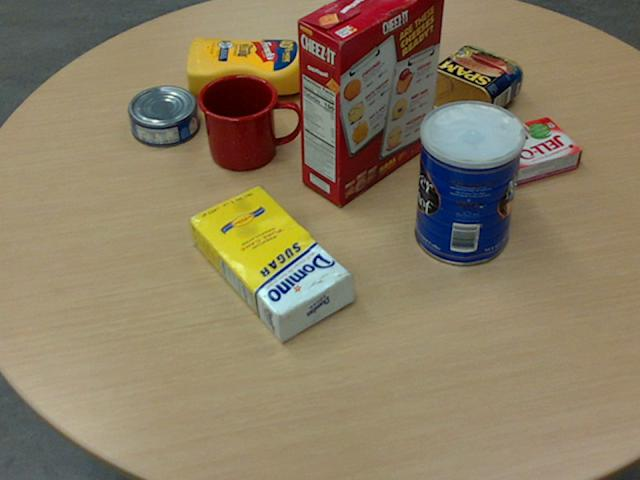cracker_box: (296, 0, 444, 204)
gelatin_box: (484, 115, 581, 183)
large_marker: (355, 20, 372, 109)
master_chef_can: (414, 100, 524, 266)
mug: (196, 73, 299, 170)
mustard_bottle: (186, 36, 338, 94)
potted_meat_can: (420, 45, 522, 126)
sugar_box: (185, 184, 353, 342)
tomato_soup_can: (355, 0, 407, 72)
tuna_fish_can: (127, 84, 198, 145)
